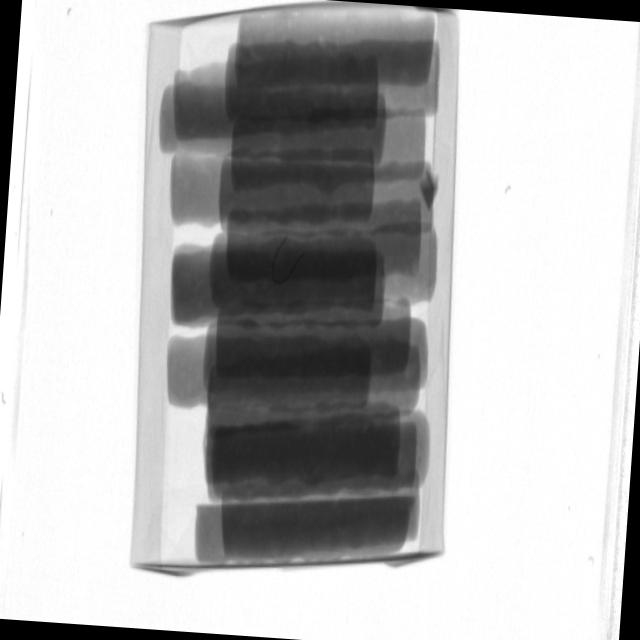ym: (269, 238, 305, 288), (419, 159, 442, 210)
